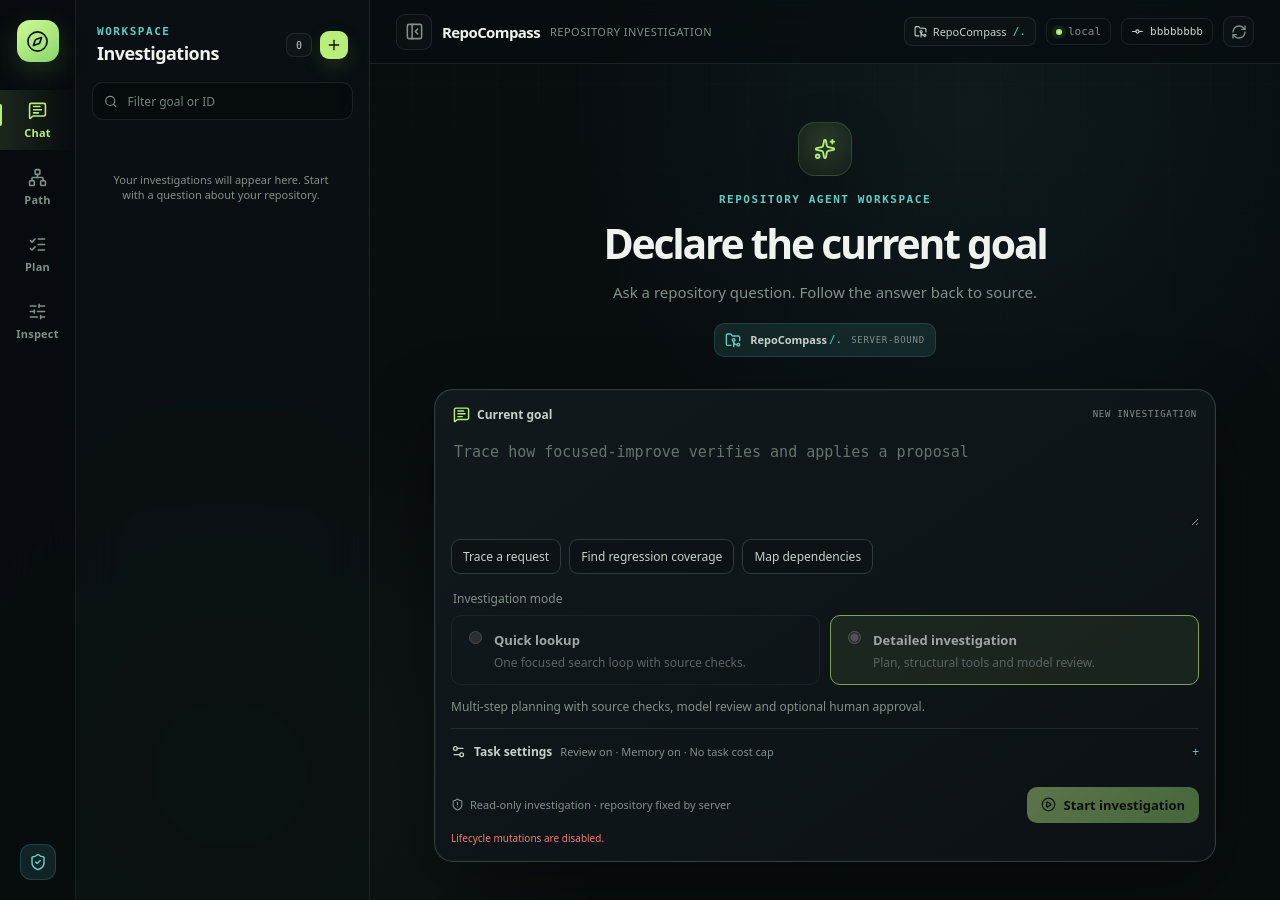
Scenario: App query shell › deduplicates cached bootstrap reads and renders the first-run empty state
Expected: the heading "Declare the current goal" is shown, x1=603 y1=215 x2=1047 y2=271
Expected: the element named "Declare current goal" is shown, x1=434 y1=389 x2=1216 y2=862
Click the button named "Hide investigations".
click(414, 32)  # box x1=396 y1=14 x2=432 y2=50
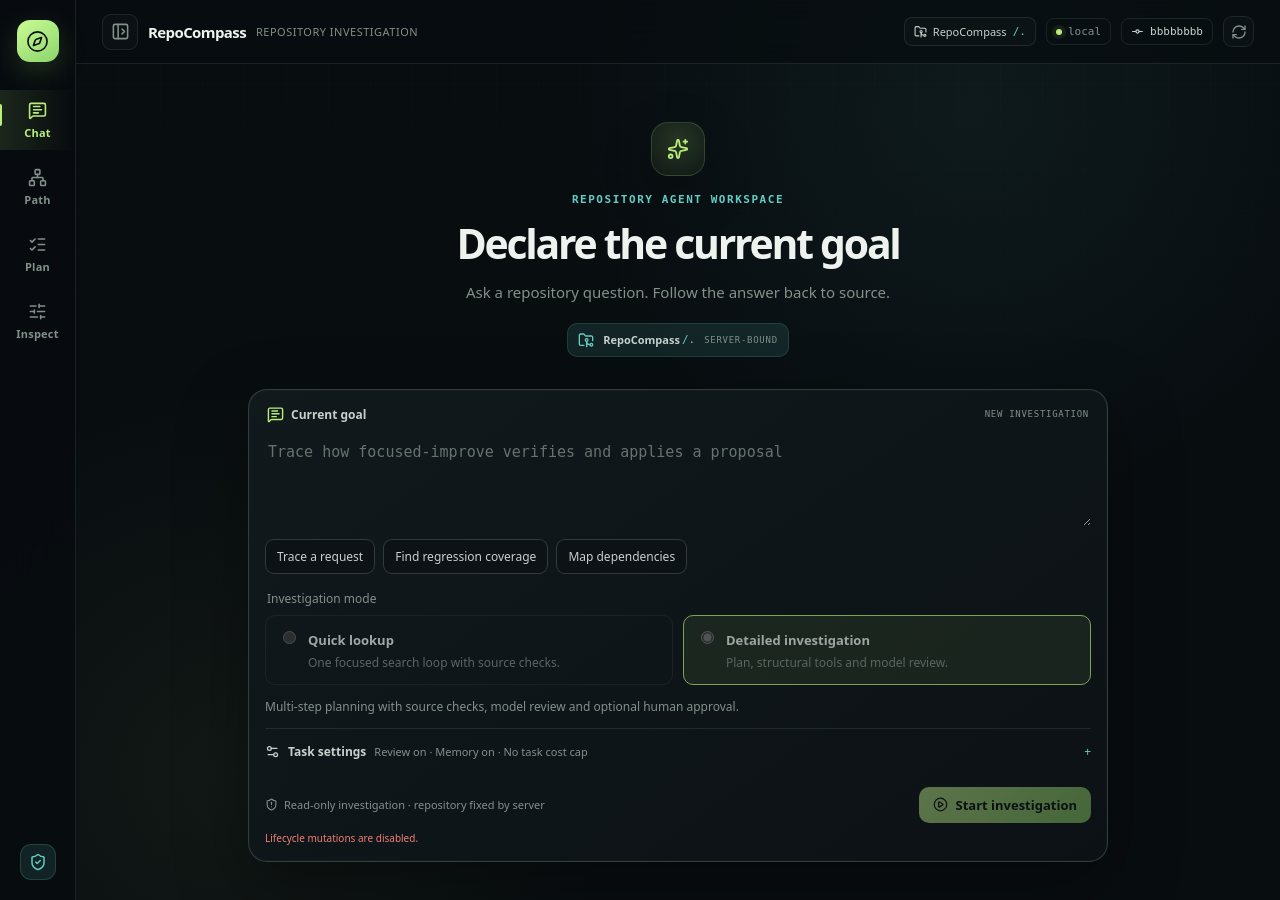
Click the button named "Show investigations".
click(120, 32)  # box x1=102 y1=14 x2=138 y2=50
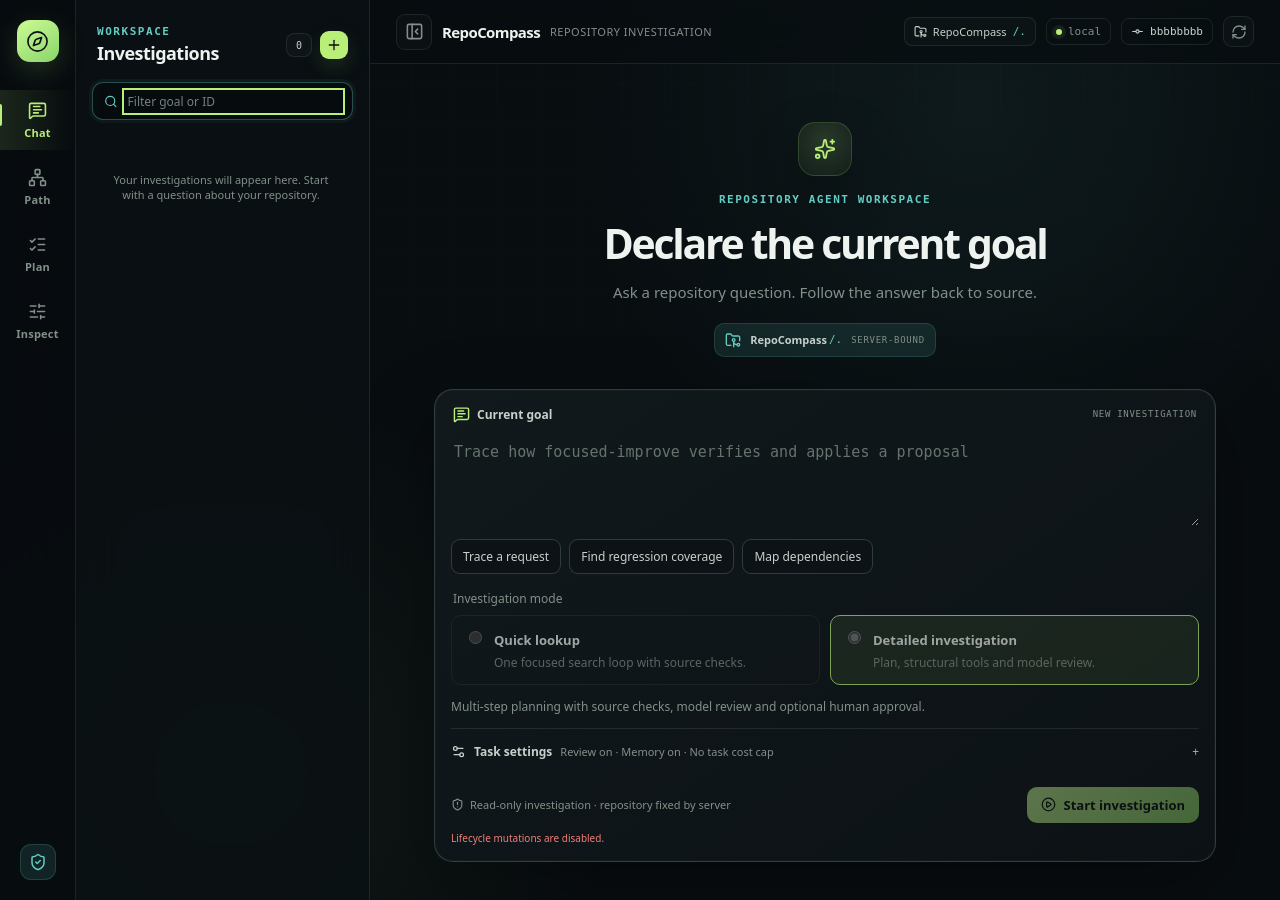
Press Escape
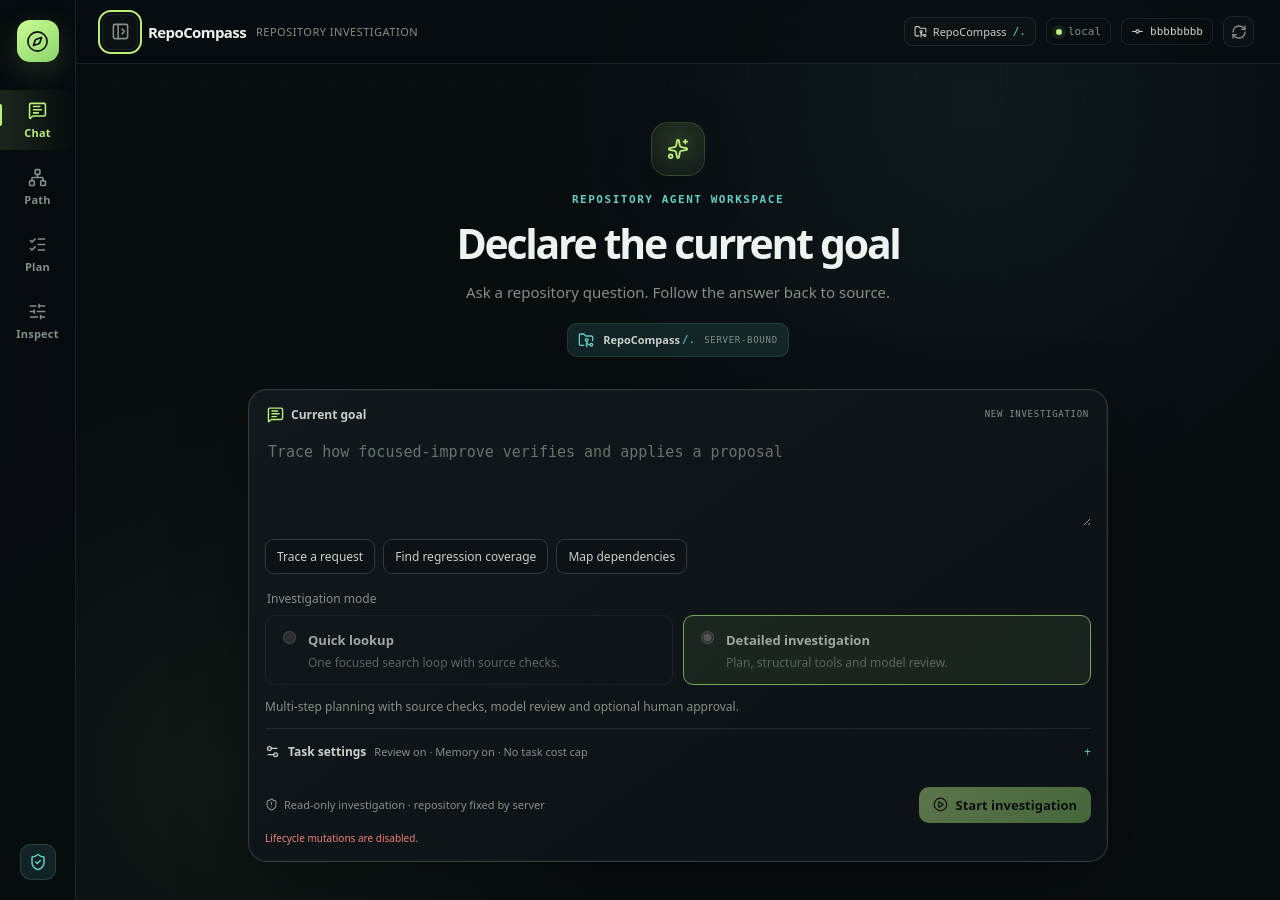
Now the button named "Show investigations" is collapsed, box x1=102 y1=14 x2=138 y2=50
